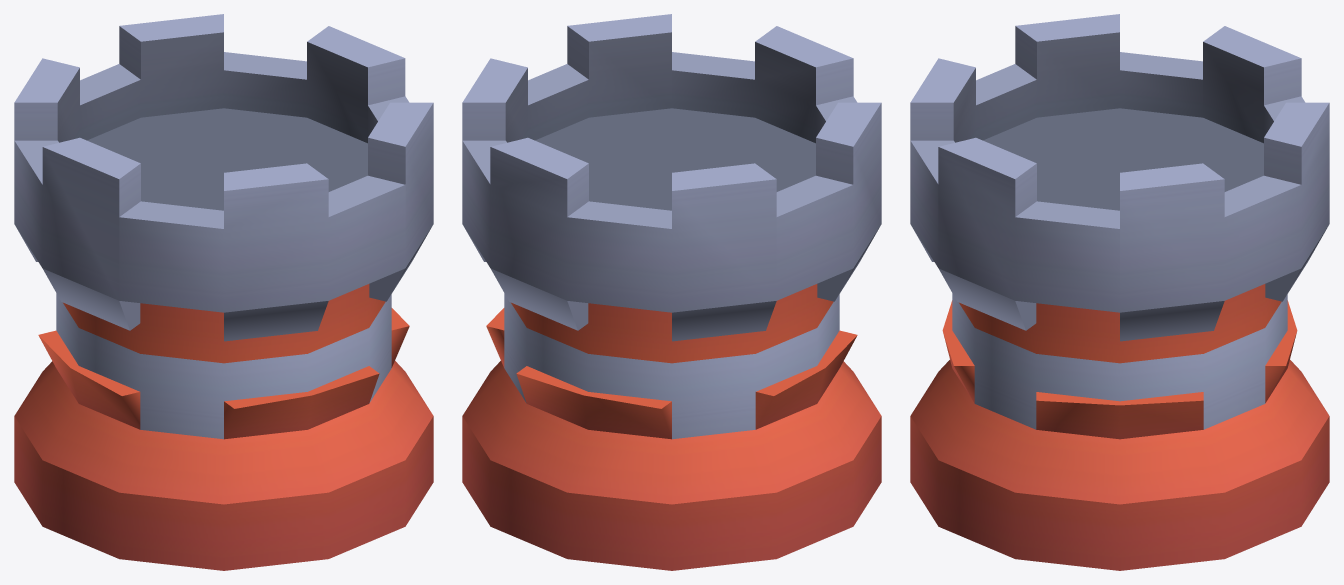
The model's file is kenney-tower-defense-tower-round-build-c.glb.
3 renders of one model, left to right at view 1: azimuth 30°, elevation 25°; view 2: azimuth 150°, elevation 25°; view 3: azimuth 270°, elevation 25°, orthographic.
Visible parts, largest first — view 1: tower-round-build-c; view 2: tower-round-build-c; view 3: tower-round-build-c.
Boxes of the visible parts, box(x1,y1,x2,y2) form: tower-round-build-c: box(14, 14, 433, 570); tower-round-build-c: box(462, 14, 881, 570); tower-round-build-c: box(910, 14, 1329, 570).
Size of the model in its own units: 1 by 1 by 1.
1 material, 1 textured.
